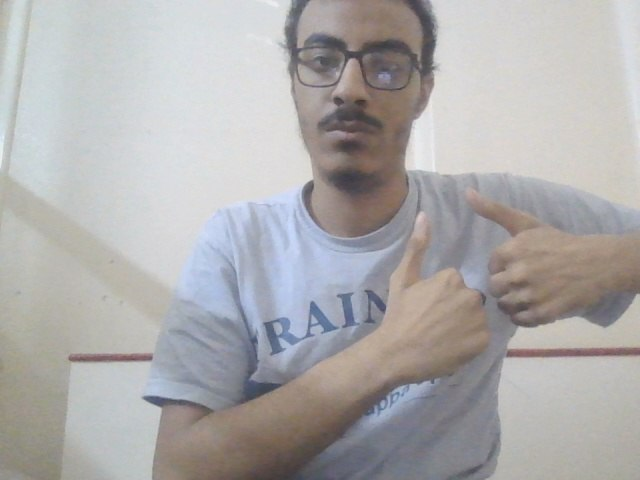Game: (373, 183, 617, 385)
